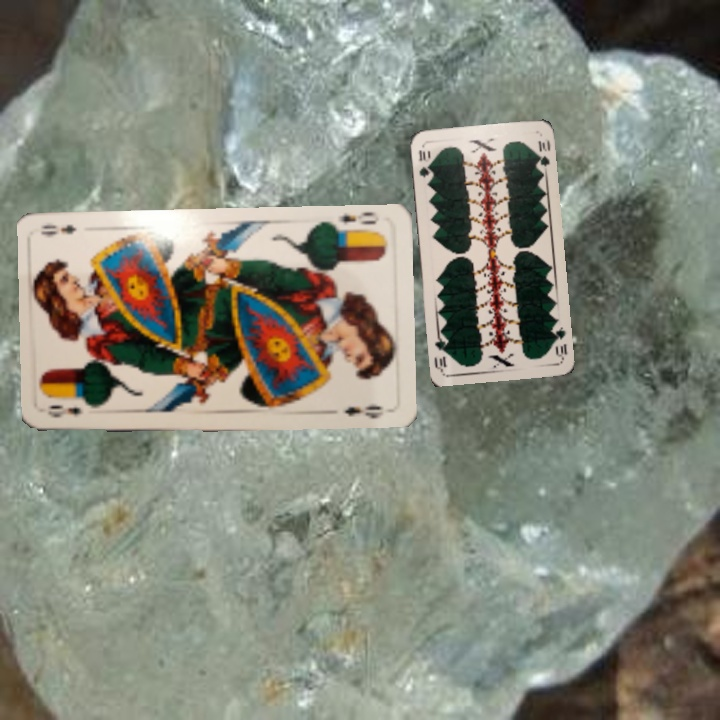EO: (329, 210, 379, 237), (44, 402, 85, 420)
G10: (548, 321, 569, 361), (415, 145, 433, 180)
